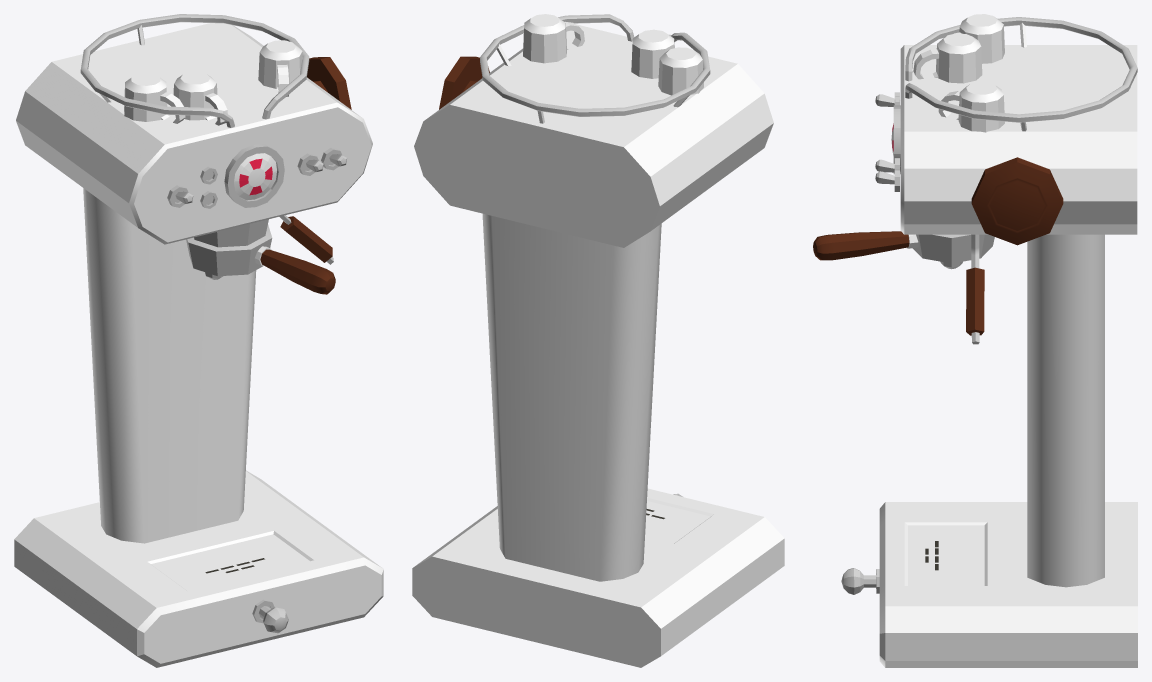
Rendered from CoffeeMachine.fbx.
The picture shows the model from 3 angles, left to right: view 1: azimuth 30°, elevation 25°; view 2: azimuth 150°, elevation 25°; view 3: azimuth 270°, elevation 25°; orthographic projection. The views are drawn at different scales.
Parts seen in each view (by area): view 1: espressomachine1, metal; view 2: espressomachine1, metal; view 3: espressomachine1, metal.
Part boxes in pixels (left/top/right/bottom): espressomachine1: left=14, top=23, right=383, bottom=667; metal: left=80, top=14, right=346, bottom=633; espressomachine1: left=412, top=14, right=784, bottom=667; metal: left=480, top=14, right=710, bottom=496; espressomachine1: left=813, top=14, right=1137, bottom=667; metal: left=841, top=17, right=1137, bottom=594.
Size of the model in its own units: 67.81 by 135 by 70.8.
2 materials, 2 textured.
